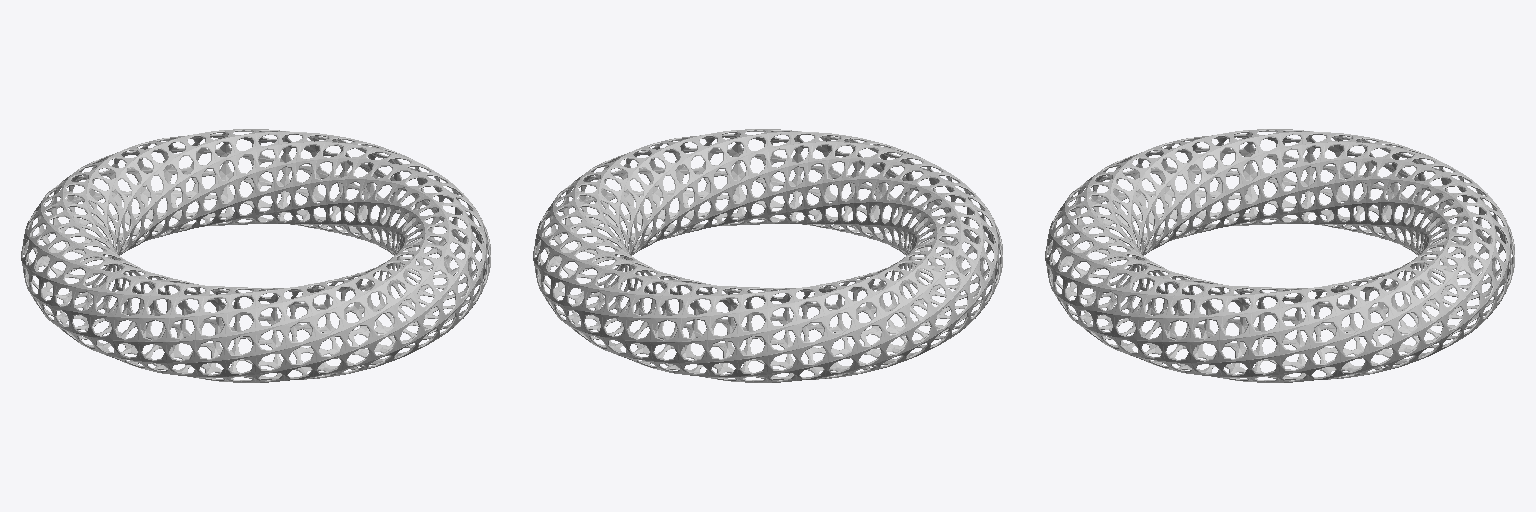
3 views of the same model, side by side, from view 1: azimuth 30°, elevation 25°; view 2: azimuth 150°, elevation 25°; view 3: azimuth 270°, elevation 25° (orthographic).
Parts seen in each view (by area): view 1: TwistedTorus.001; view 2: TwistedTorus.001; view 3: TwistedTorus.001.
Part boxes in pixels (bbox=[...]): TwistedTorus.001: bbox=[21, 129, 490, 382]; TwistedTorus.001: bbox=[533, 129, 1002, 382]; TwistedTorus.001: bbox=[1045, 129, 1514, 382].
Size of the model in its own units: 17.52 by 3.56 by 17.52.